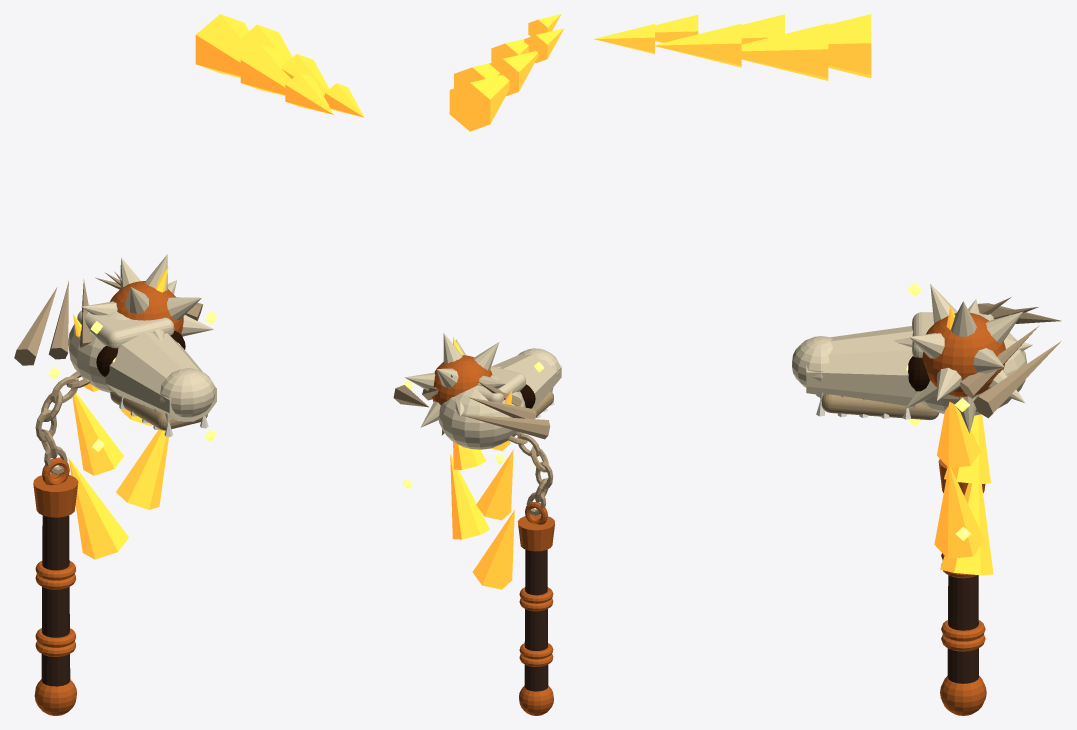
The model's file is drflail.glb.
The picture shows the model from 3 angles, left to right: view 1: azimuth 30°, elevation 25°; view 2: azimuth 150°, elevation 25°; view 3: azimuth 270°, elevation 25°; orthographic projection. The views are drawn at different scales.
Visible parts, largest first — view 1: flame, bone, grip, pommel, horn, spikes, chain, wrap, head, boneDark, socket; view 2: flame, bone, grip, horn, pommel, spikes, head, chain, wrap; view 3: flame, bone, spikes, horn, head, grip, boneDark, pommel, wrap.
Boxes of the visible parts, box(x1,y1,x2,y2) form: flame: box(68, 14, 364, 559); bone: box(68, 310, 216, 421); grip: box(41, 515, 70, 686); pommel: box(33, 457, 78, 715); horn: box(14, 271, 202, 365); spikes: box(81, 254, 213, 340); chain: box(35, 371, 90, 474); wrap: box(35, 561, 75, 656); head: box(110, 281, 183, 334); boneDark: box(110, 391, 207, 430); socket: box(96, 330, 185, 376); flame: box(449, 14, 564, 589); bone: box(438, 348, 561, 449); grip: box(524, 549, 548, 691); horn: box(393, 374, 550, 439); pommel: box(517, 502, 554, 715); spikes: box(404, 333, 505, 435); head: box(432, 355, 492, 404); chain: box(507, 431, 553, 515); wrap: box(519, 587, 553, 666); flame: box(594, 14, 993, 575); bone: box(792, 312, 1026, 415); spikes: box(894, 284, 1032, 433); horn: box(960, 297, 1061, 418); head: box(922, 312, 1005, 396); grip: box(947, 575, 979, 683); boneDark: box(821, 394, 939, 420); pommel: box(938, 459, 986, 715); wrap: box(941, 553, 985, 651).
Bounding box in the file's own units: 1.33 × 4.69 × 2.61.
